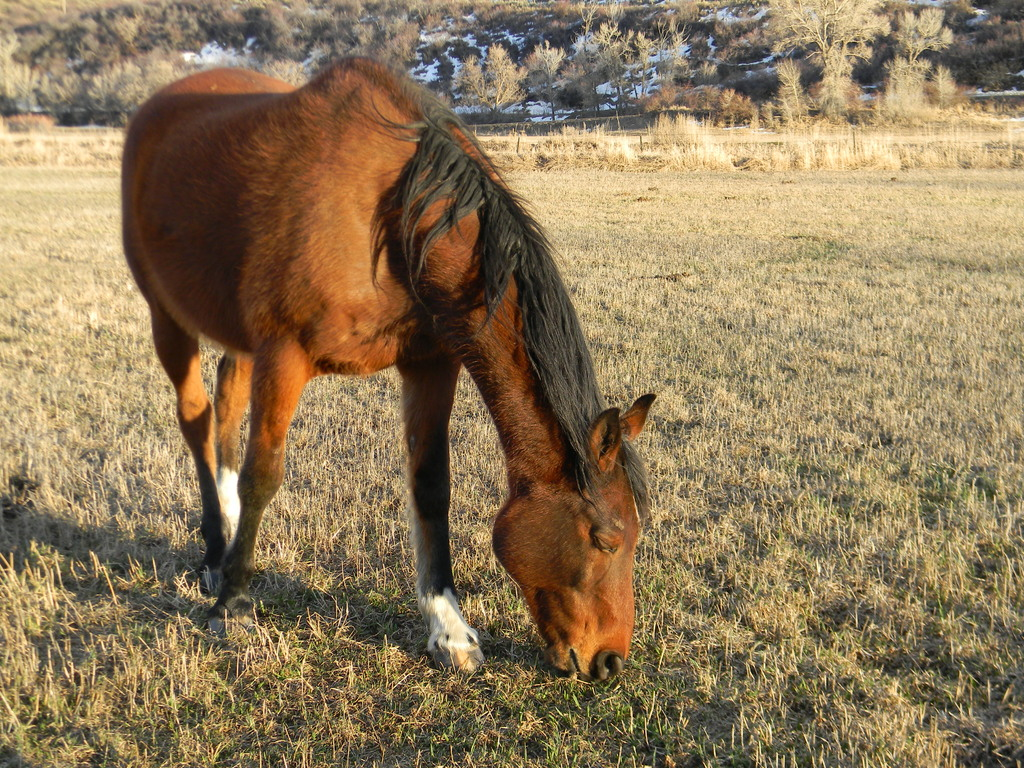horse: (112, 57, 657, 693)
